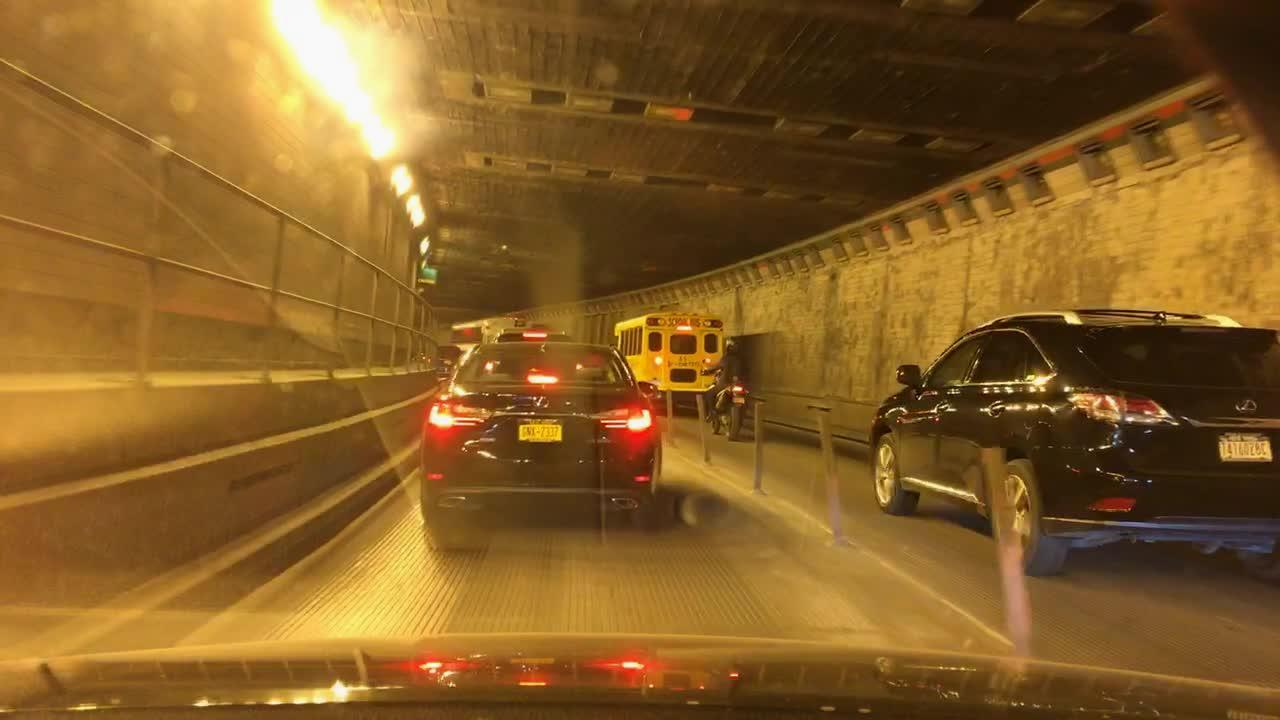lexus: (1222, 383, 1269, 431), (522, 389, 566, 417)
